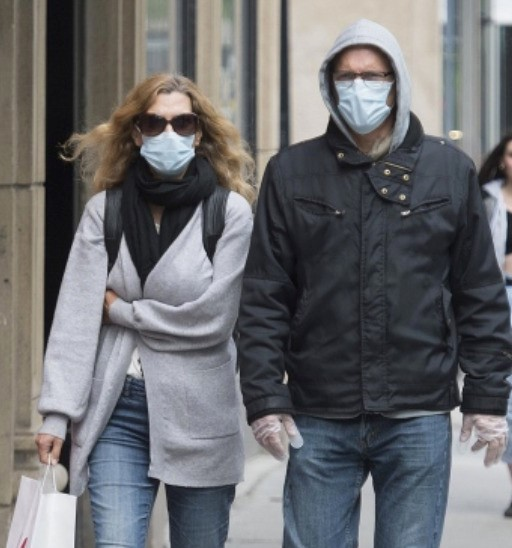Bad: (35, 19, 510, 548)
